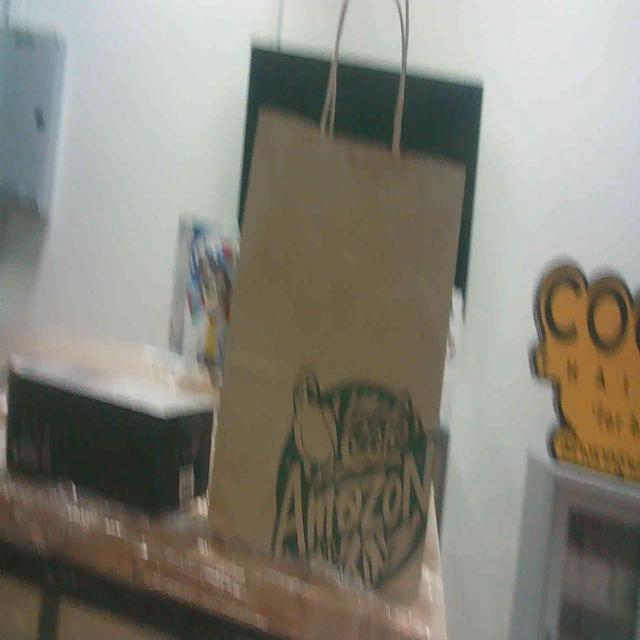bag: (213, 95, 474, 640)
